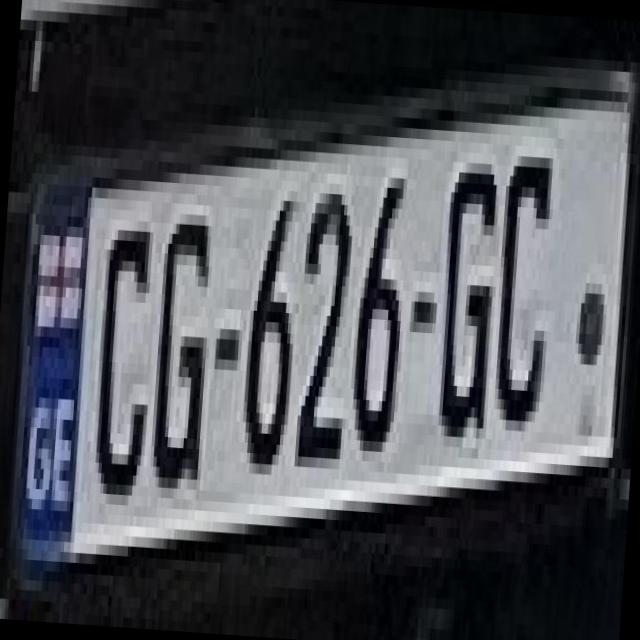2: (285, 161, 366, 460)
6: (334, 144, 428, 443), (226, 167, 308, 466)
C: (480, 124, 574, 423), (80, 198, 156, 486)
G: (418, 130, 506, 428), (138, 191, 220, 490)
